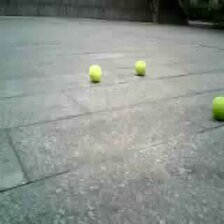tennis: (211, 95, 224, 119), (89, 64, 102, 82), (136, 61, 146, 74)
